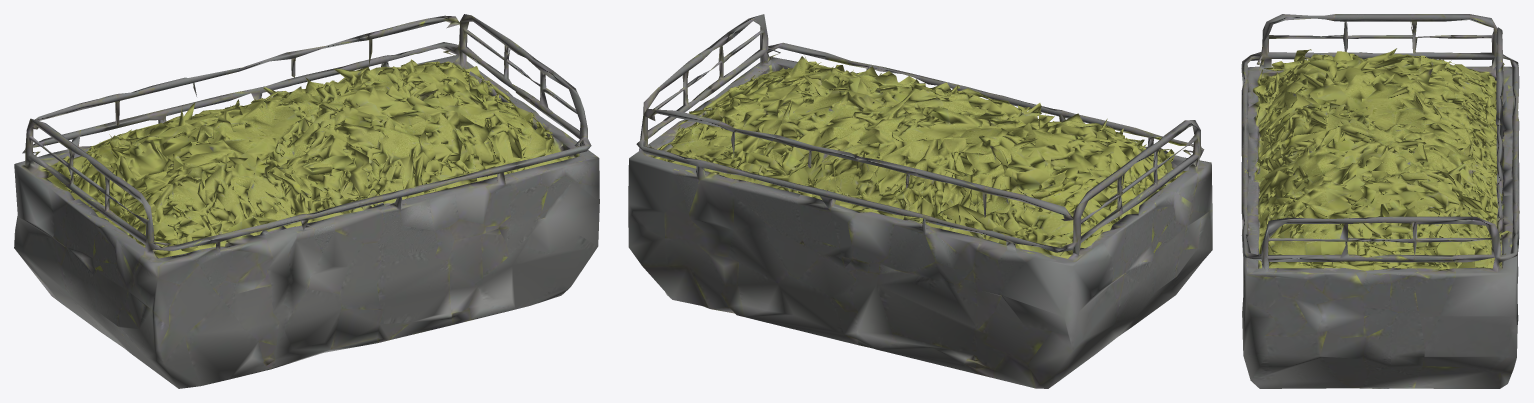
Rendered from feed-bunk-lite.glb.
The picture shows the model from 3 angles, left to right: view 1: azimuth 30°, elevation 25°; view 2: azimuth 150°, elevation 25°; view 3: azimuth 270°, elevation 25°; orthographic projection. The views are drawn at different scales.
Size of the model in its own units: 1.9 by 0.7957 by 1.07.
1 material, 1 textured.
